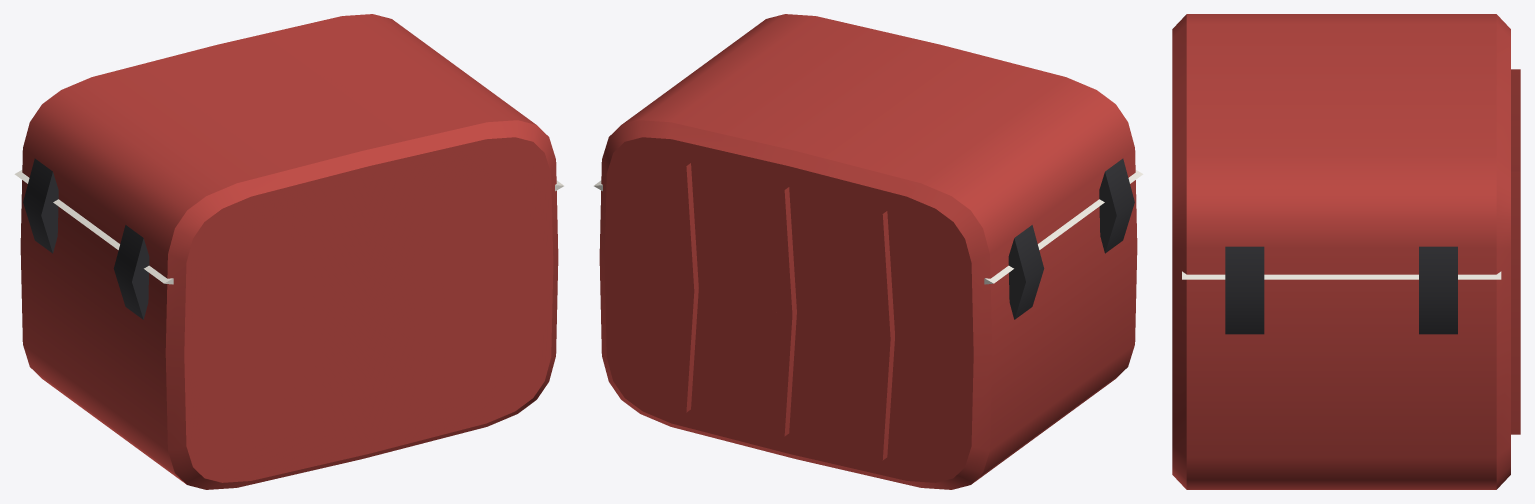
File: airbox.glb
The picture shows the model from 3 angles, left to right: view 1: azimuth 30°, elevation 25°; view 2: azimuth 150°, elevation 25°; view 3: azimuth 270°, elevation 25°; orthographic projection. The views are drawn at different scales.
Visible parts, largest first — view 1: lod0; view 2: lod0; view 3: lod0.
Part boxes in pixels (<box>): lod0: <box>14,14,563,489</box>; lod0: <box>594,14,1143,489</box>; lod0: <box>1172,14,1520,489</box>.
Size of what is drawn, in the model's own units: 0.216 by 0.15 by 0.144.
